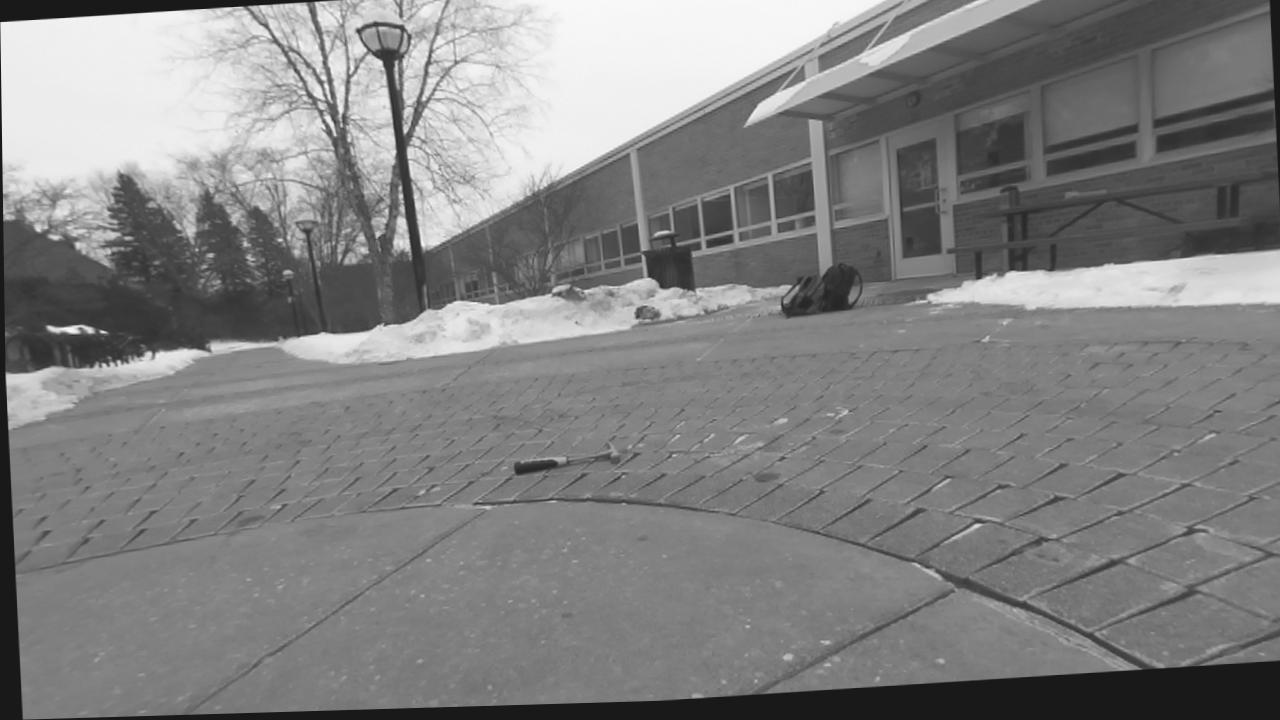mallet: (1063, 189, 1107, 199)
pick: (514, 444, 622, 474)
